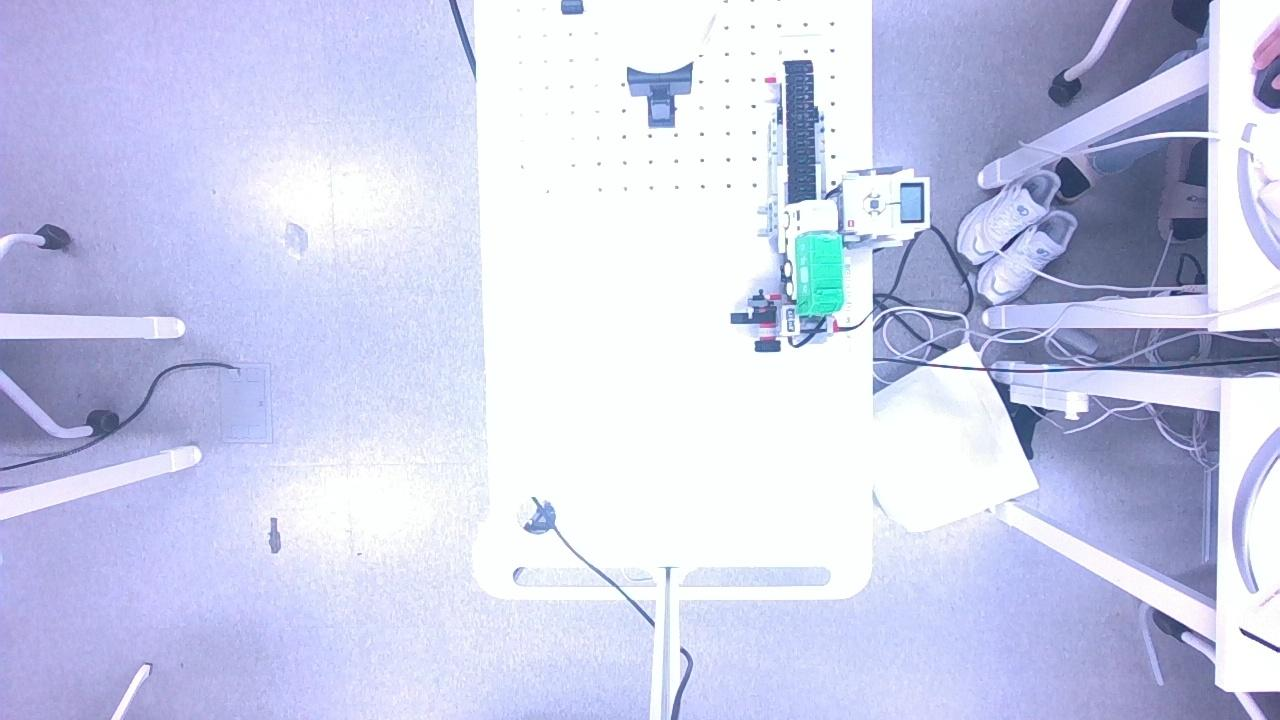truck: (766, 191, 853, 325)
